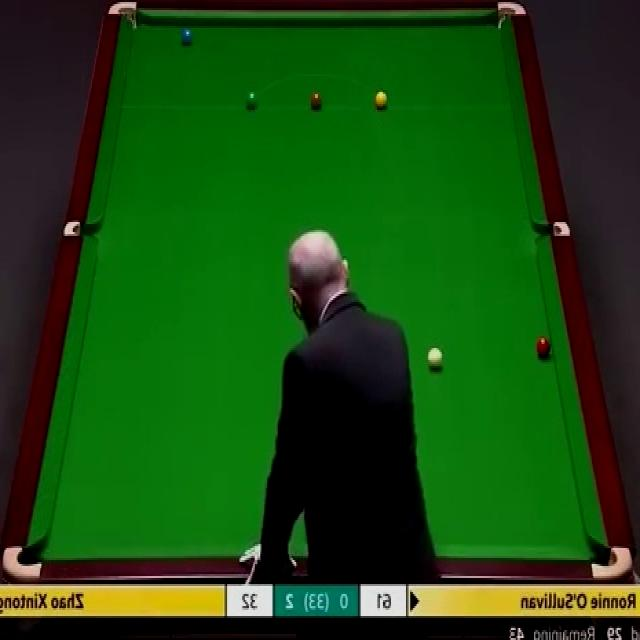pocket: (2, 543, 47, 582), (590, 544, 633, 582), (108, 0, 141, 32), (494, 3, 530, 32), (536, 220, 571, 237), (63, 220, 102, 235)
